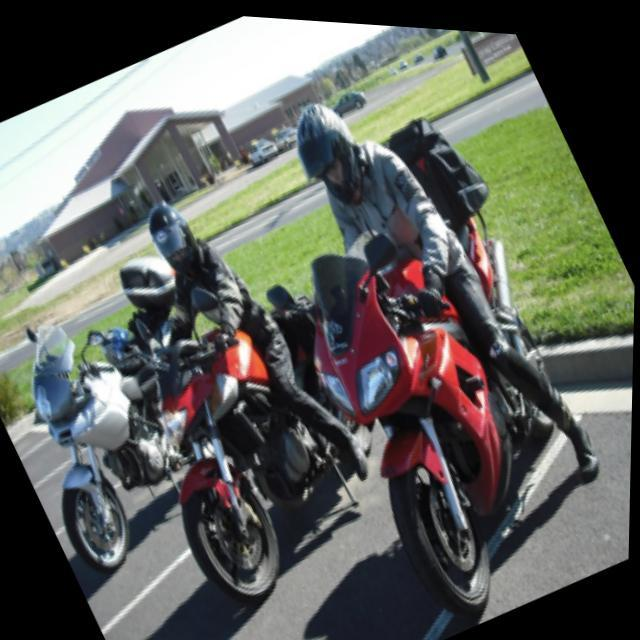Helmet: (292, 97, 374, 209)
